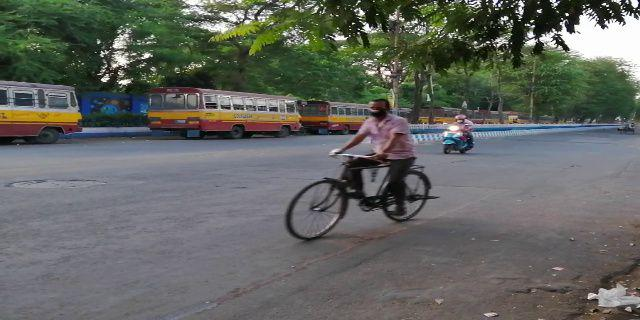Bus: (142, 87, 303, 143), (1, 74, 92, 146), (301, 97, 369, 132)
Cycle: (281, 97, 436, 247)
Motorbike: (437, 113, 477, 157)
